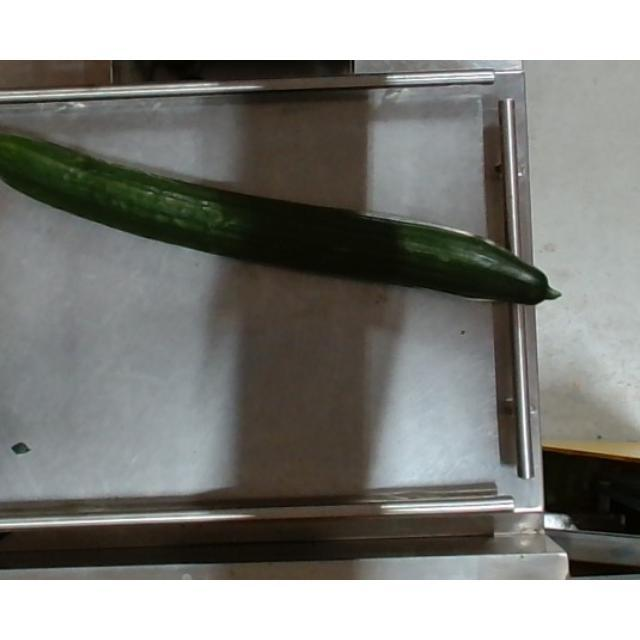cucumber: (0, 133, 562, 304)
